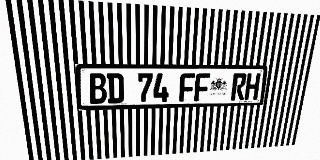4: (153, 73, 169, 102)
7: (137, 73, 153, 103)
B: (88, 73, 107, 104)
D: (106, 73, 124, 104)
F: (179, 73, 195, 102), (194, 73, 210, 101)
H: (244, 73, 261, 100)
R: (231, 73, 247, 100)
